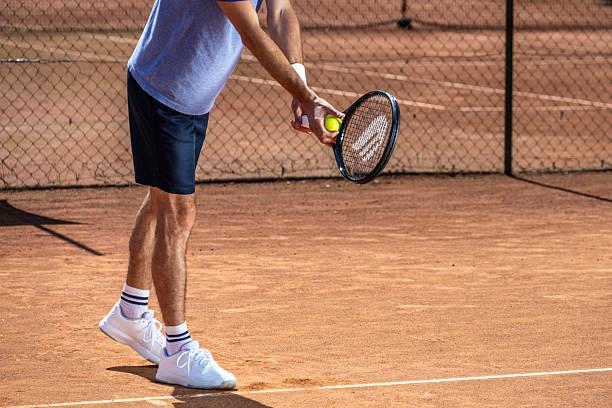ball_tennis: (323, 116, 340, 134)
